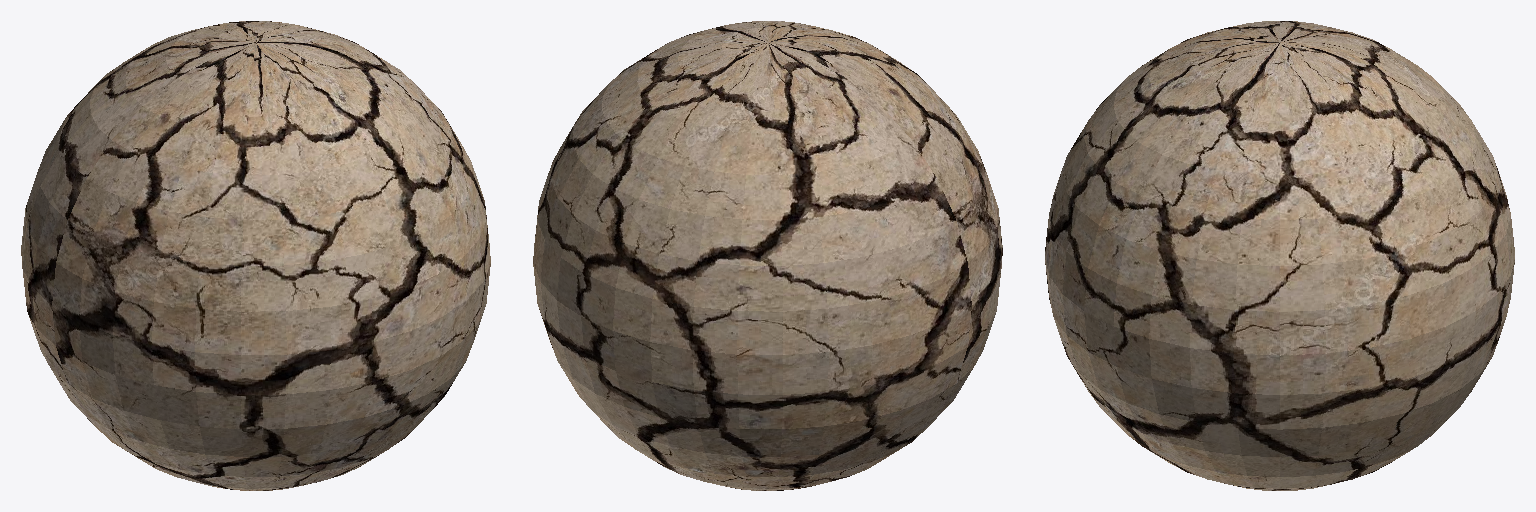
The picture shows the model from 3 angles: view 1: azimuth 30°, elevation 25°; view 2: azimuth 150°, elevation 25°; view 3: azimuth 270°, elevation 25°; orthographic projection.
Visible parts, largest first — view 1: Sphere34; view 2: Sphere34; view 3: Sphere34.
Part boxes in pixels (x1,y1,x2,y2): Sphere34: (21,21,490,490); Sphere34: (533,21,1002,490); Sphere34: (1045,21,1514,490).
Size of the model in its own units: 2 by 2 by 2.
Materials: 1 (1 with a texture image).